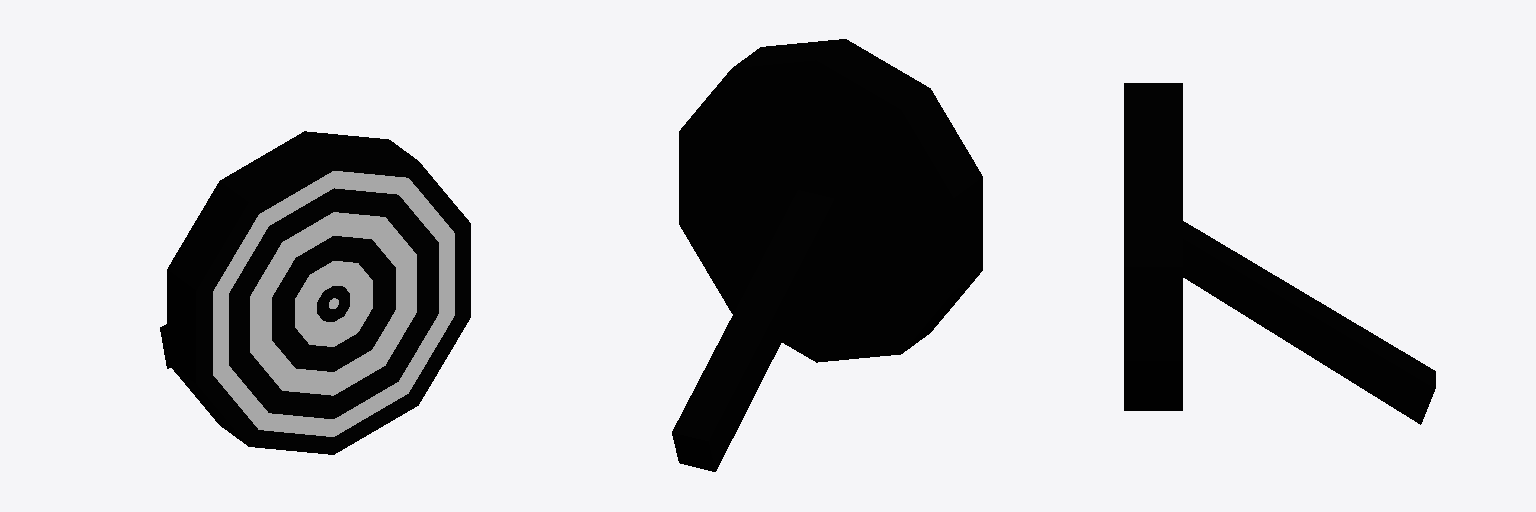
Rendered from TargetPratice.obj.
3 renders of one model, left to right at view 1: azimuth 30°, elevation 25°; view 2: azimuth 150°, elevation 25°; view 3: azimuth 270°, elevation 25°, orthographic.
Parts seen in each view (by area): view 1: TargetPratice_Cylinder.022; view 2: TargetPratice_Cylinder.022; view 3: TargetPratice_Cylinder.022.
Boxes of the visible parts, x1,y1,x2,y2 form: TargetPratice_Cylinder.022: [160, 131, 470, 454]; TargetPratice_Cylinder.022: [672, 39, 982, 471]; TargetPratice_Cylinder.022: [1124, 83, 1435, 424].
Bounding box in the file's own units: 1.9 × 2.12 × 1.87.